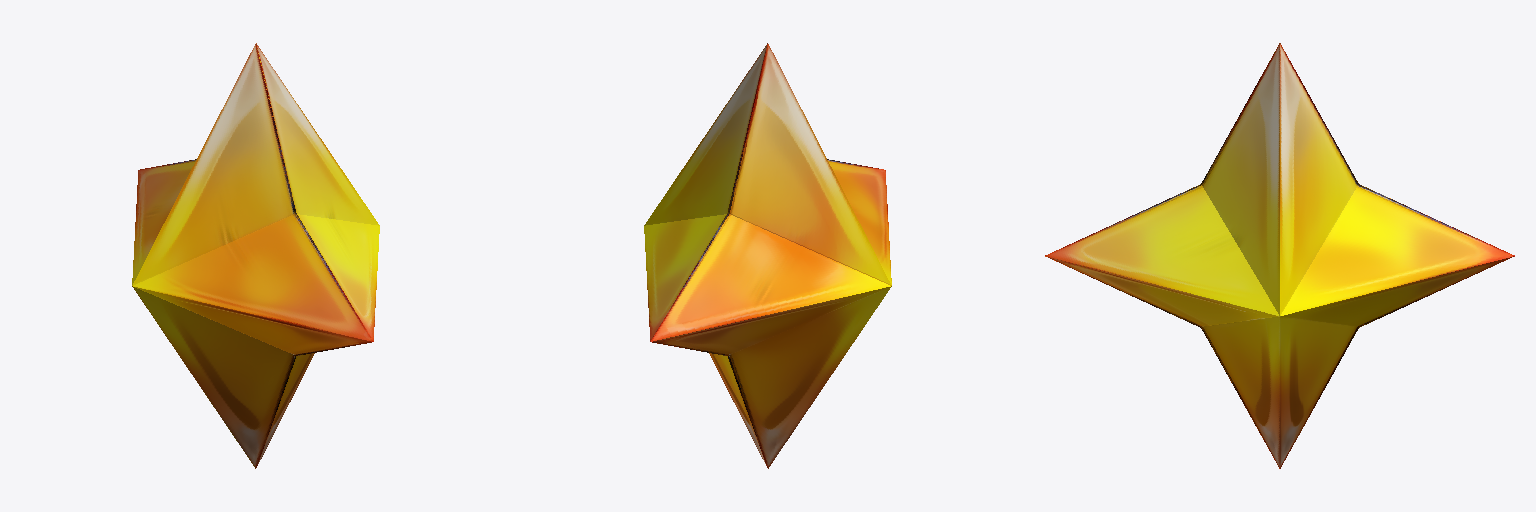
3 views of the same model, side by side, from view 1: azimuth 30°, elevation 25°; view 2: azimuth 150°, elevation 25°; view 3: azimuth 270°, elevation 25° (orthographic).
Visible parts, largest first — view 1: Star; view 2: Star; view 3: Star.
Part boxes in pixels (x1,y1,x2,y2): Star: (132,43,379,468); Star: (644,43,891,468); Star: (1045,43,1514,468).
Bounding box in the file's own units: 1.81 × 2.98 × 2.98.
1 materials, 1 textured.